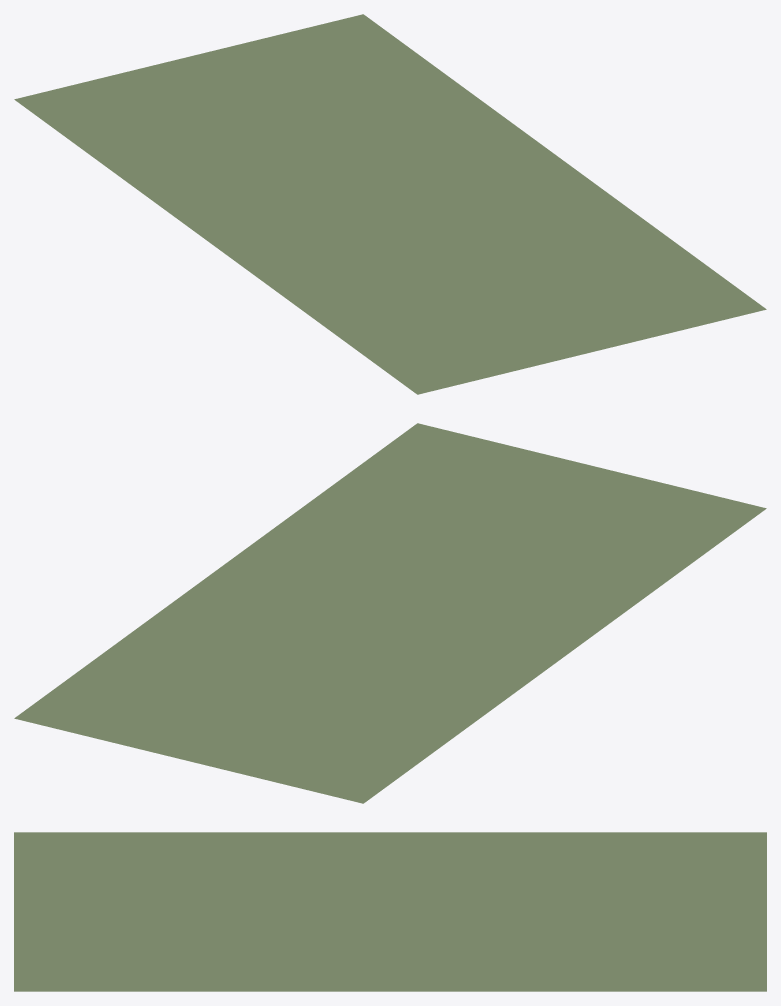
The model's file is Ground_Grass.fbx.
3 views of the same model, one above another, from view 1: azimuth 30°, elevation 25°; view 2: azimuth 150°, elevation 25°; view 3: azimuth 270°, elevation 25° (orthographic). The views are drawn at different scales.
Visible parts, largest first — view 1: GroundRoad_Grass1; view 2: GroundRoad_Grass1; view 3: GroundRoad_Grass1.
Part boxes in pixels (<box>): GroundRoad_Grass1: <box>14,14,766,394</box>; GroundRoad_Grass1: <box>14,423,766,803</box>; GroundRoad_Grass1: <box>14,832,766,991</box>.
Size of the model in its own units: 800 by 1.91e-06 by 1600.
